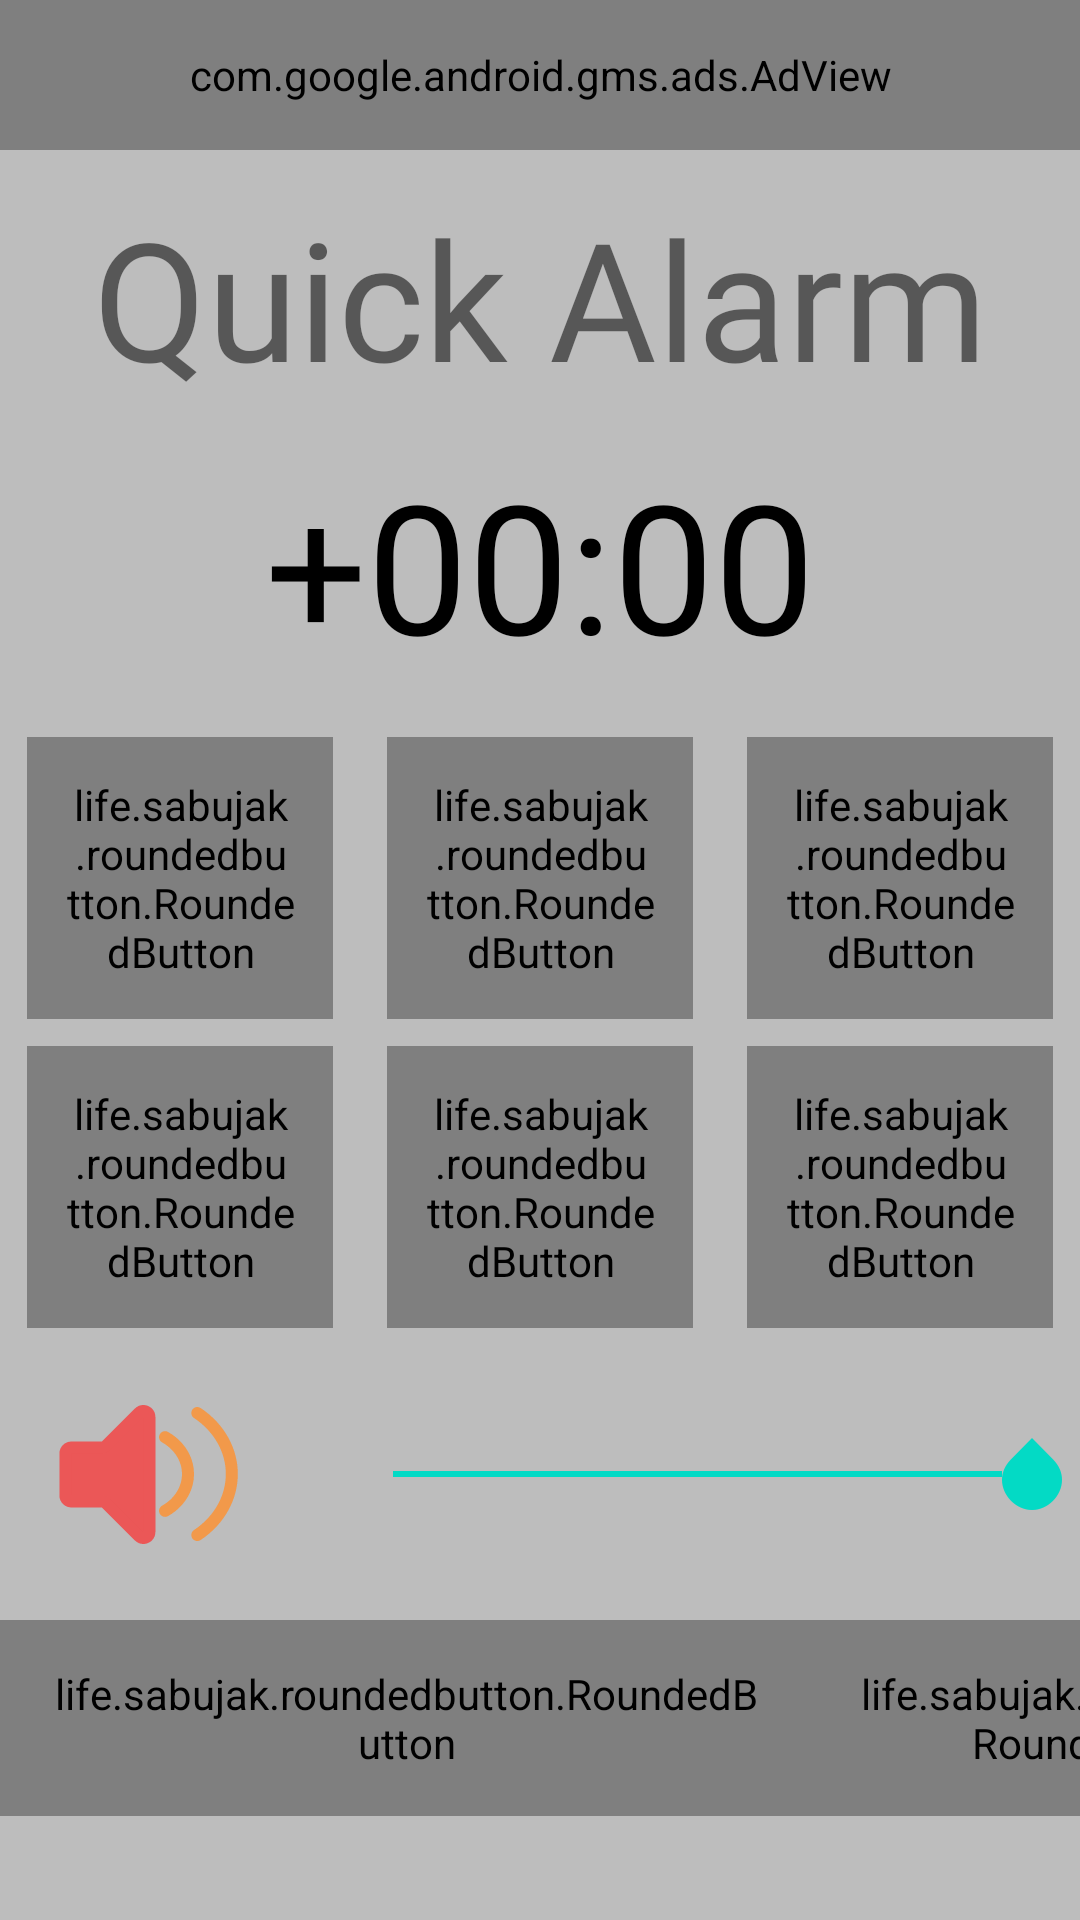

Where icons sit on this 1080w x 1920h app screen, as {"left": x1, "top": y1, "right": x2, "bottom": y2}:
volume: {"left": 59, "top": 1405, "right": 238, "bottom": 1544}
